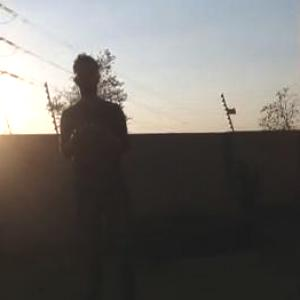follow: (56, 47, 164, 299)
